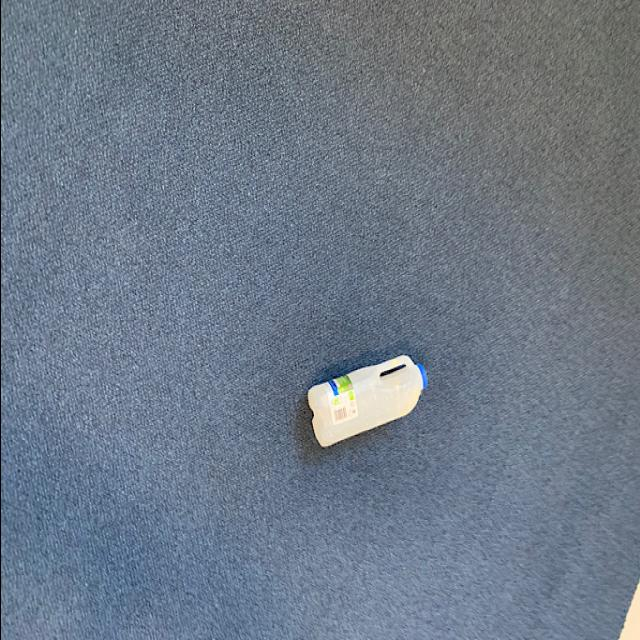HDPEM: (301, 348, 433, 458)
